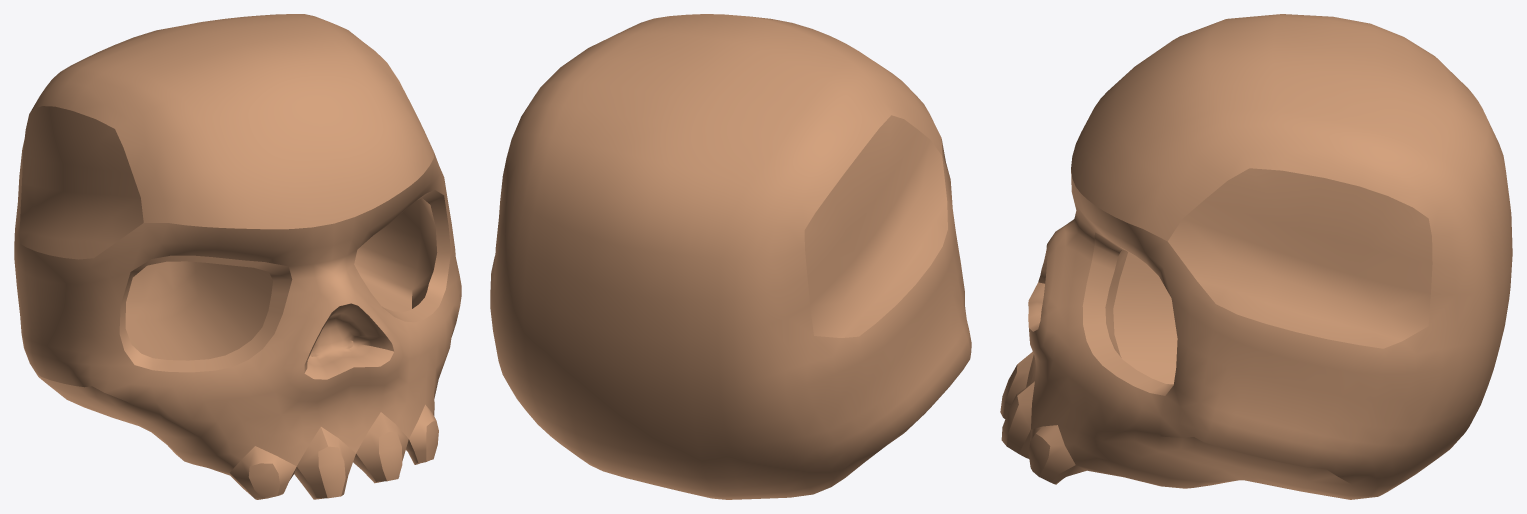
Rendered from Skull.glb.
3 views of the same model, side by side, from view 1: azimuth 30°, elevation 25°; view 2: azimuth 150°, elevation 25°; view 3: azimuth 270°, elevation 25° (orthographic). The views are drawn at different scales.
Parts seen in each view (by area): view 1: Environment_Skulls; view 2: Environment_Skulls; view 3: Environment_Skulls.
Boxes of the visible parts, left/top/right/bottom form: Environment_Skulls: left=14, top=14, right=461, bottom=499; Environment_Skulls: left=490, top=14, right=971, bottom=499; Environment_Skulls: left=1000, top=14, right=1512, bottom=499.
Size of the model in its own units: 4.14 by 3.81 by 4.44.
Materials: 1 (1 with a texture image).
